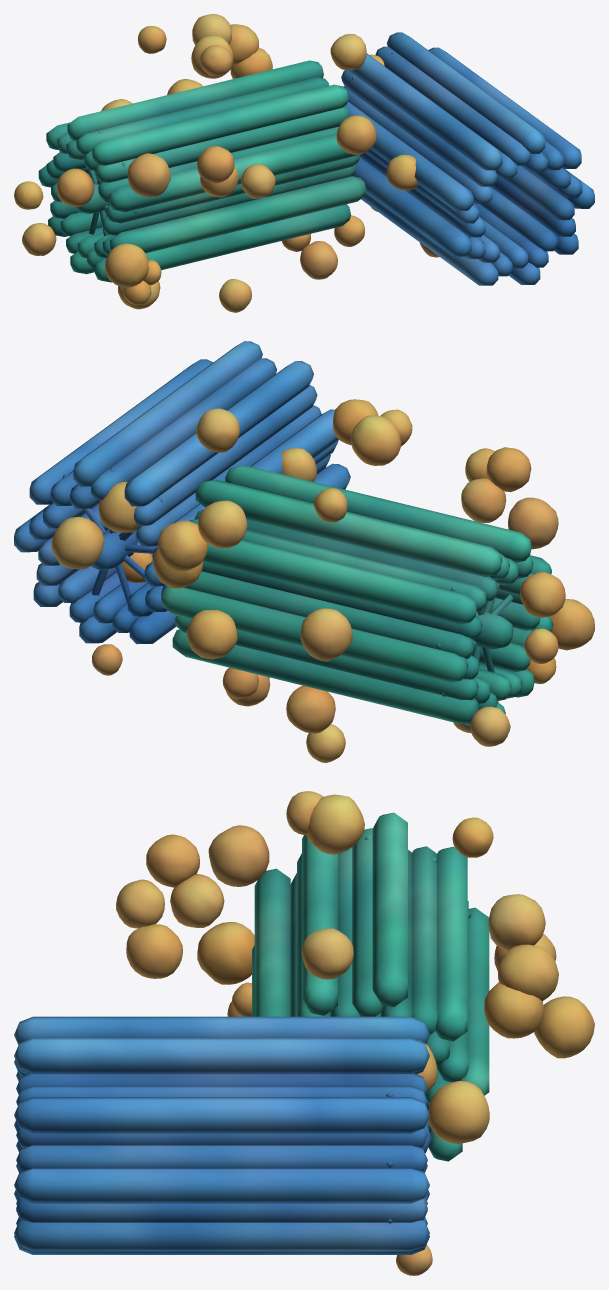
The model's file is centrosome.glb.
3 views of the same model, one above another, from view 1: azimuth 30°, elevation 25°; view 2: azimuth 150°, elevation 25°; view 3: azimuth 270°, elevation 25° (orthographic). The views are drawn at different scales.
Visible parts, largest first — view 1: centrosome-mother, centrosome-daughter, centrosome-pcm; view 2: centrosome-mother, centrosome-daughter, centrosome-pcm; view 3: centrosome-daughter, centrosome-mother, centrosome-pcm.
Boxes of the visible parts, x1,y1,x2,y2 form: centrosome-mother: (38,60,366,282); centrosome-daughter: (341,32,594,285); centrosome-pcm: (14,14,439,312); centrosome-mother: (161,465,553,725); centrosome-daughter: (14,341,350,644); centrosome-pcm: (51,399,594,762); centrosome-daughter: (14,1016,431,1254); centrosome-mother: (252,812,489,1161); centrosome-pcm: (116,791,594,1275).
Size of what is drawn, in the model's own units: 1.74 by 1.07 by 1.38.
